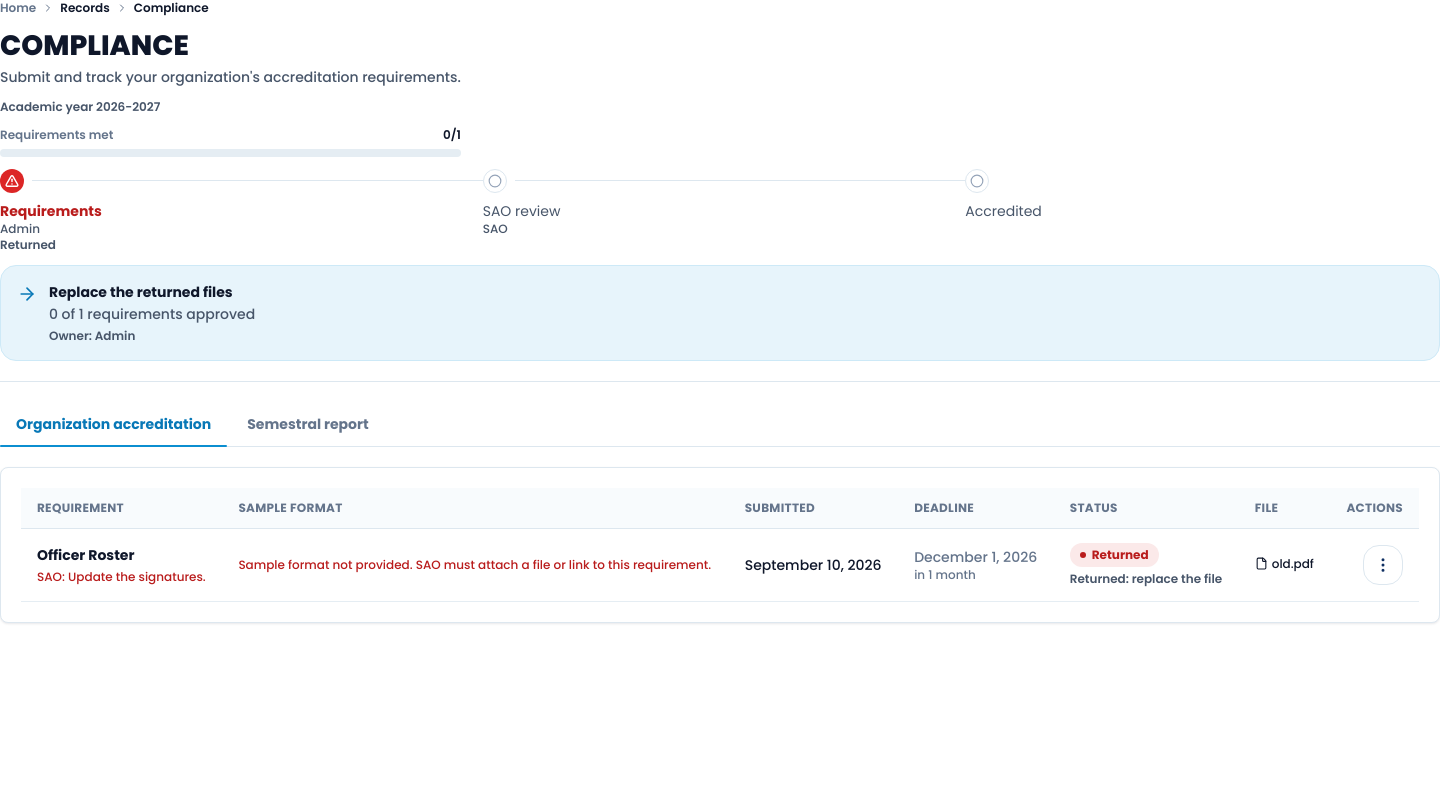
it: OrganizationCompliancePage › lets an admin view and replace the returned file from the requirement row
Click the button named "Actions for Officer Roster" at (1383, 565), box [1363, 545, 1403, 585]
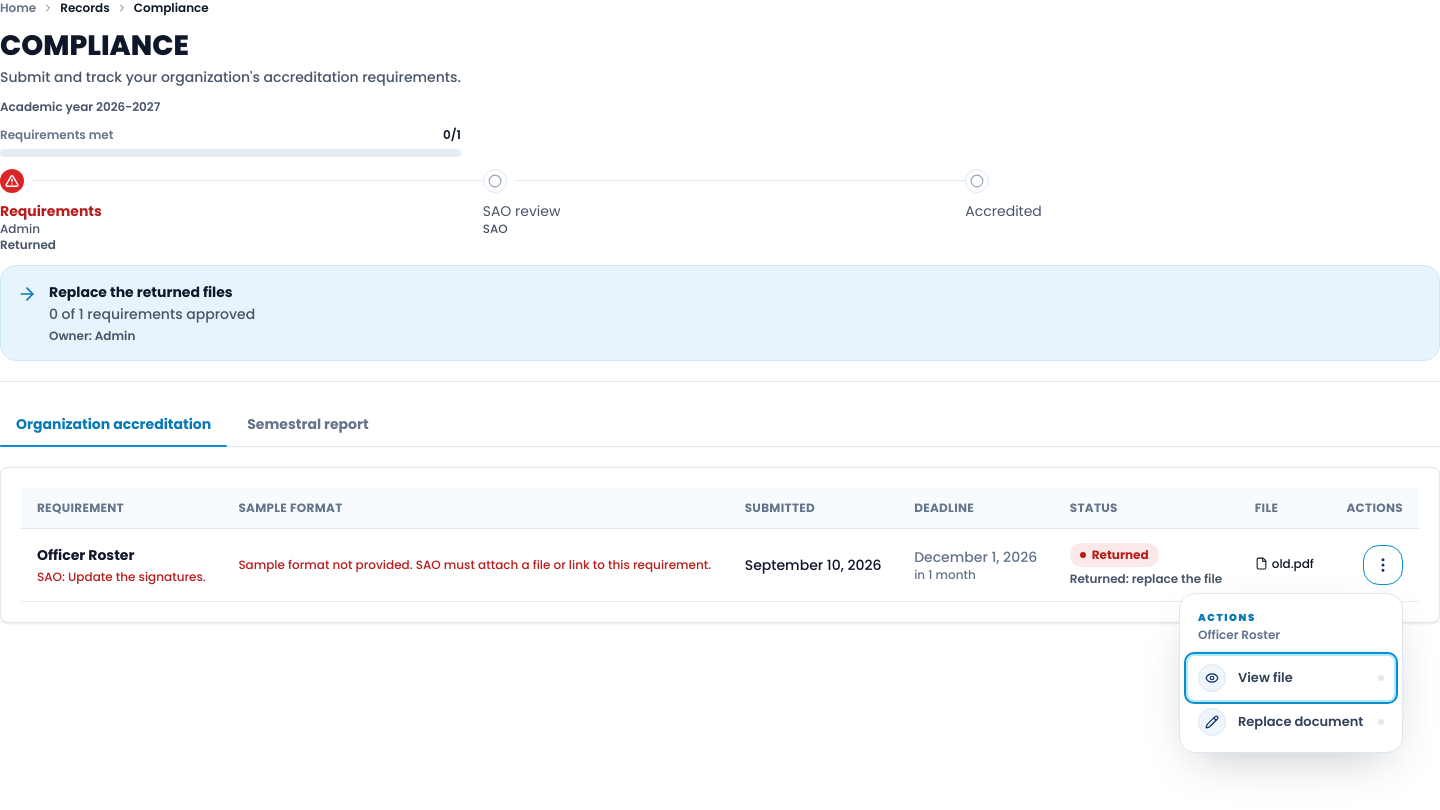
Click the menu item "View file" at (1291, 678), box [1188, 656, 1394, 700]
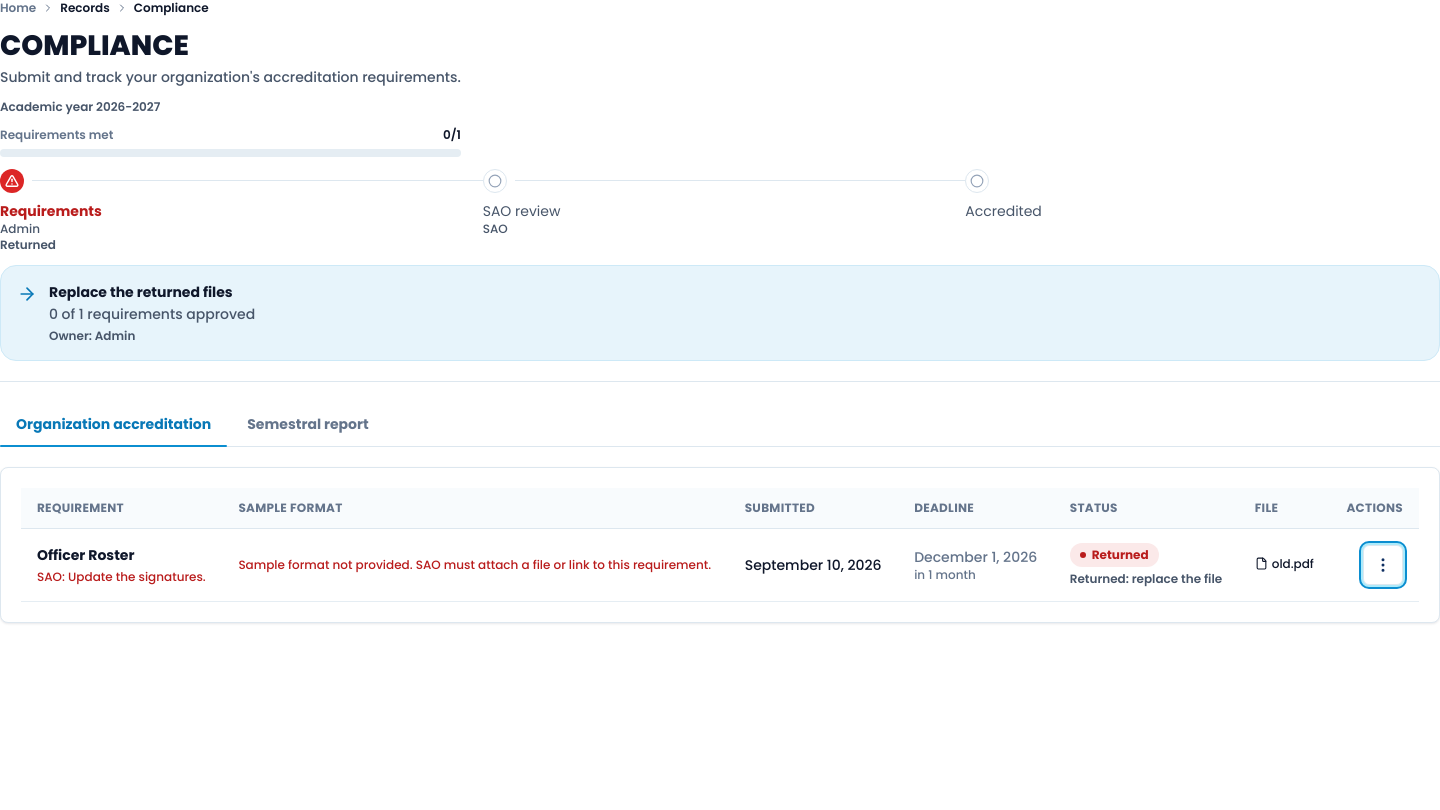
Click the button named "Actions for Officer Roster" at (1383, 565), box [1363, 545, 1403, 585]
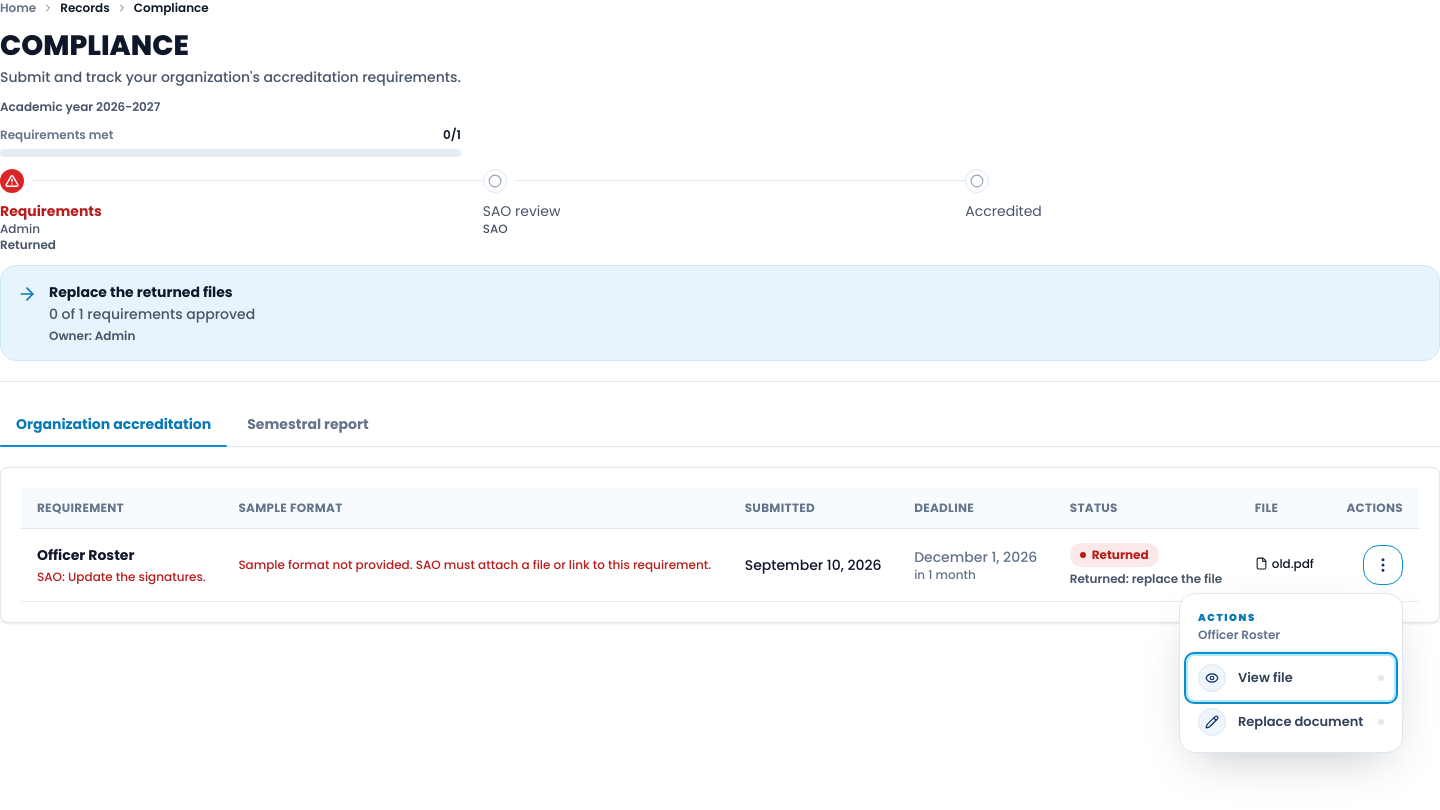
Click the menu item "Replace document" at (1291, 722), box [1188, 700, 1394, 744]
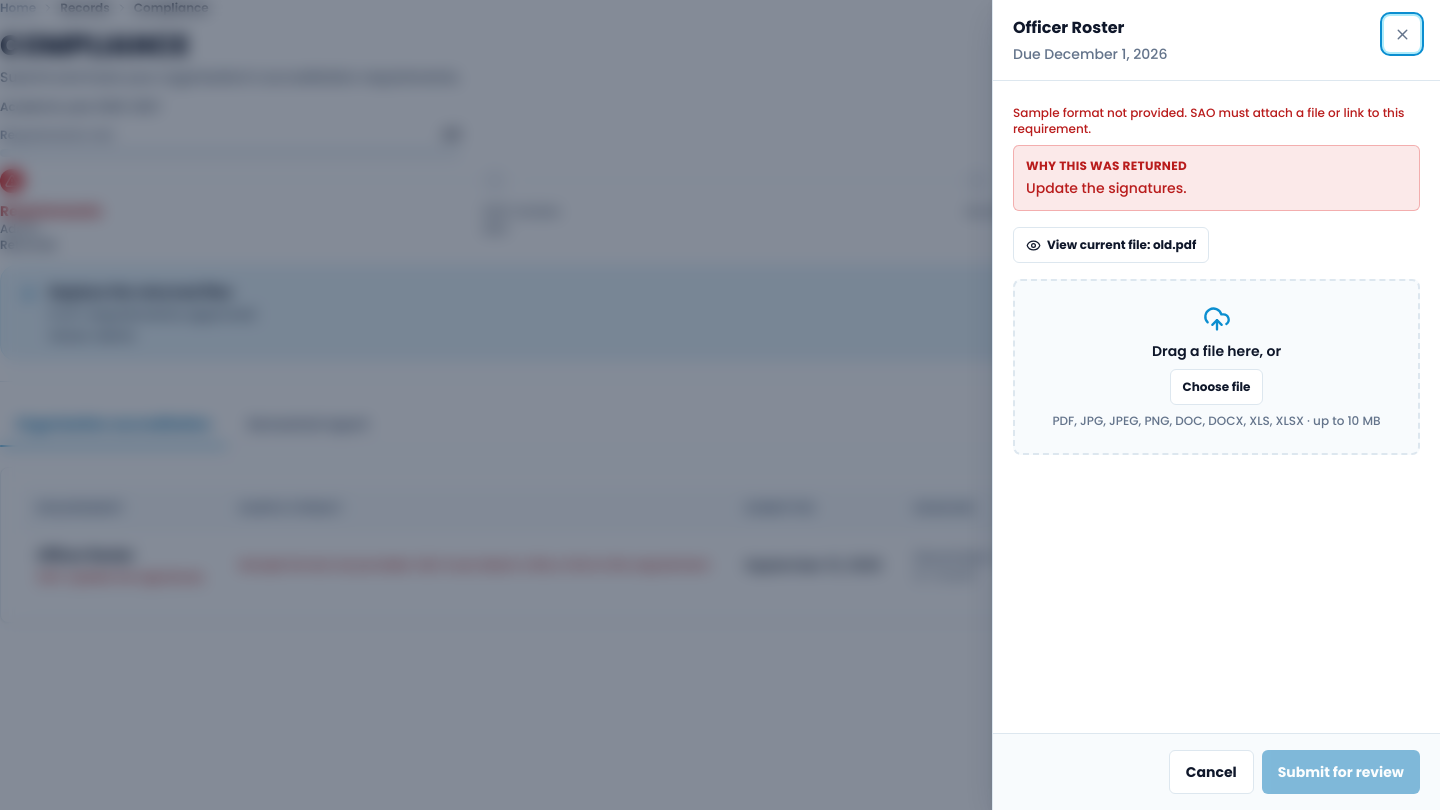
Expected: the button "View current file: old.pdf" is shown, [1013, 227, 1209, 263]
Expected: the text "Update the signatures." is shown, [1026, 178, 1187, 198]
